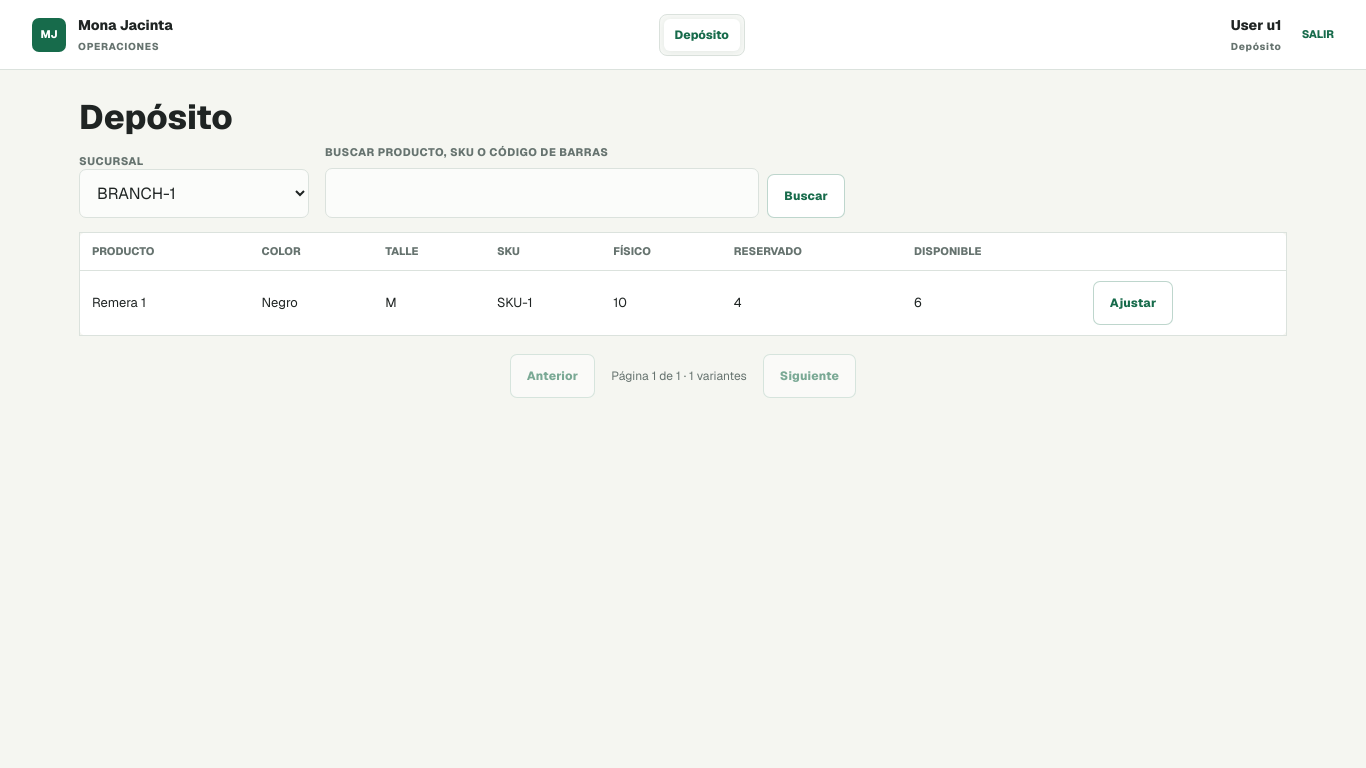
Test: exchange drafts and the session › SX-01 an explicit logout keeps an UNCERTAIN attempt (memory and storage) and drops only the editable draft
Click the button "Salir": (1318, 35) [1302,26,1334,43]
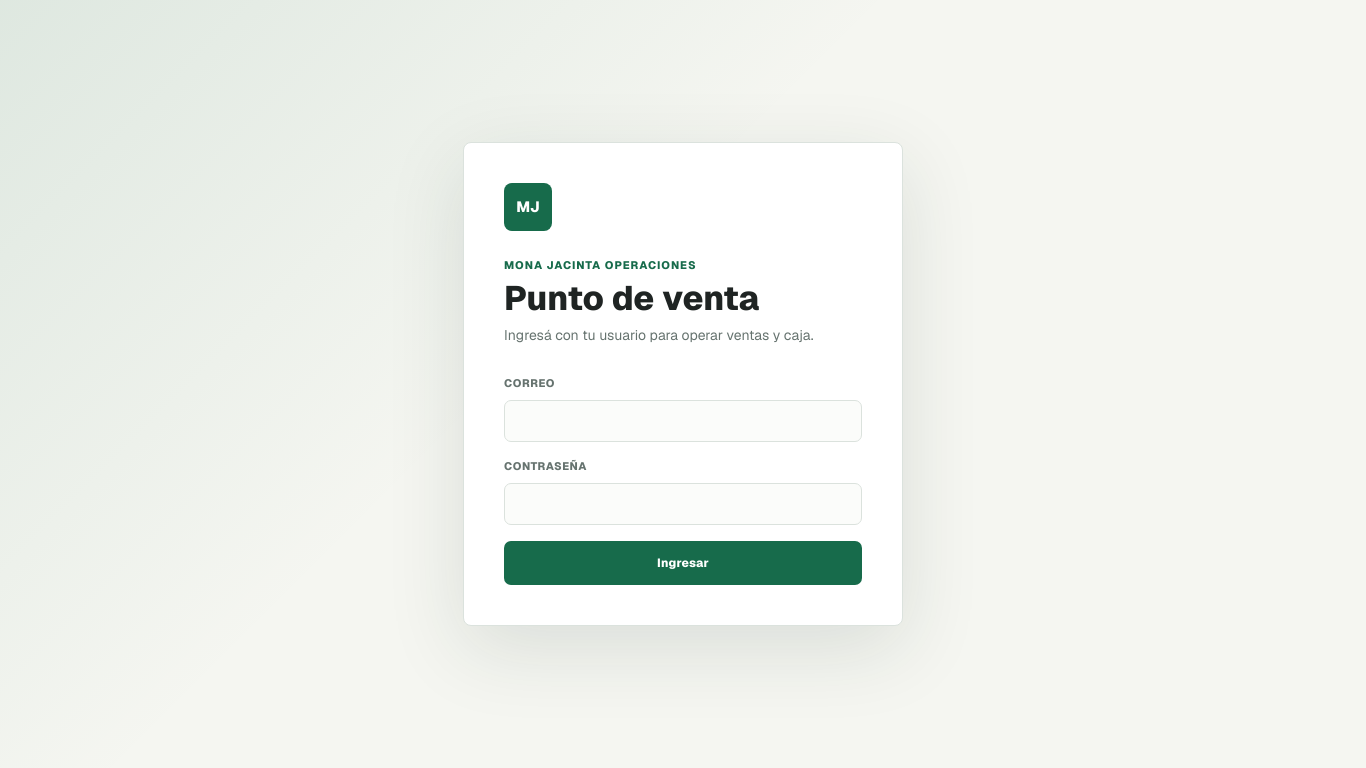
Result: the field labelled "Correo" is shown at [504,400,862,442]
